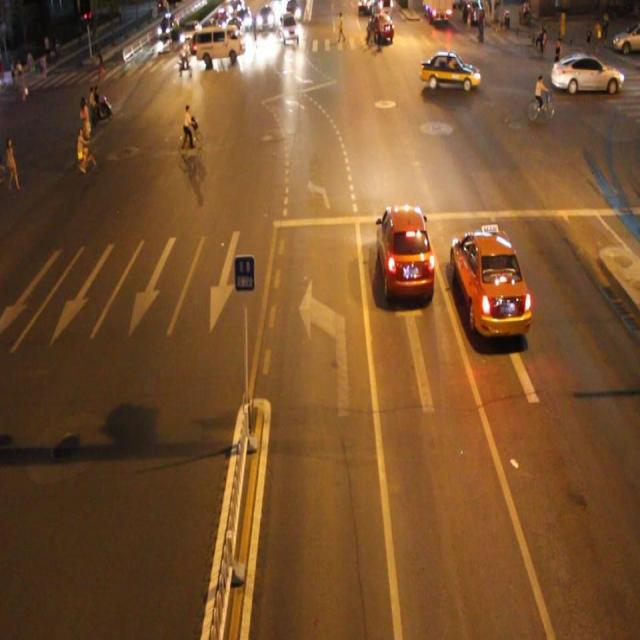car: (452, 227, 528, 335), (376, 205, 433, 299), (420, 50, 479, 91)
truck: (195, 27, 246, 64)
